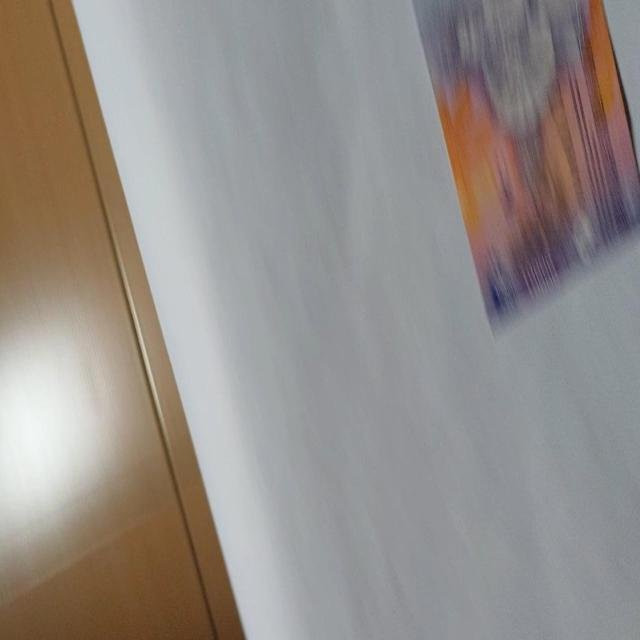Kertas: (411, 0, 639, 342)
